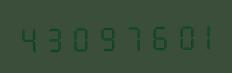four: (17, 21, 41, 54)
nine: (92, 20, 116, 52)
one: (192, 18, 216, 51)
seven: (117, 19, 141, 52)
six: (142, 19, 166, 52)
three: (42, 21, 66, 53)
zero: (67, 20, 91, 53), (167, 19, 191, 51)
